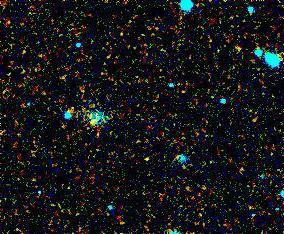star: (131, 141, 161, 171)
